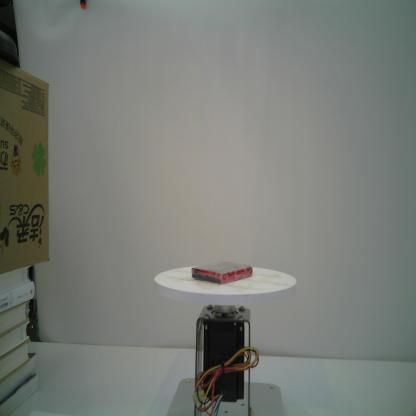Gum: (192, 260, 252, 284)
